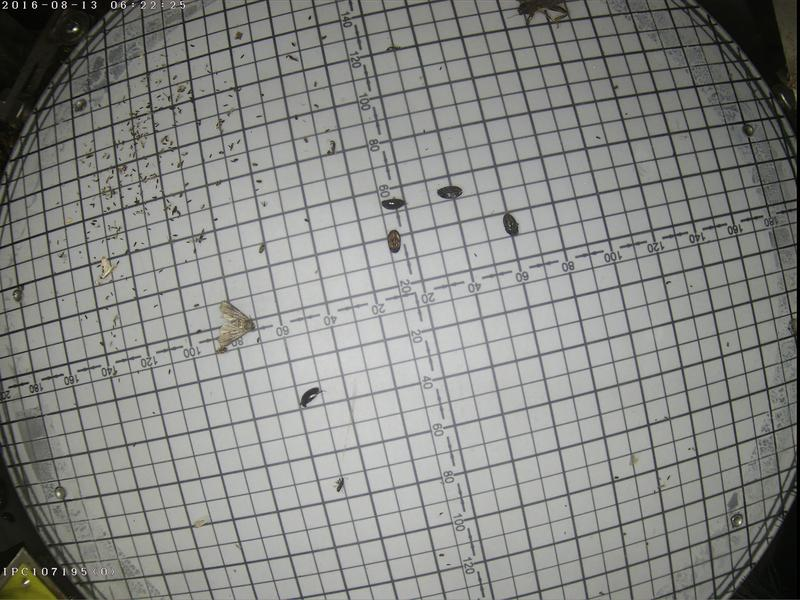Gryllotalpa orientalis: (504, 0, 583, 29)
Rice Leaf Roller: (97, 253, 118, 279)
